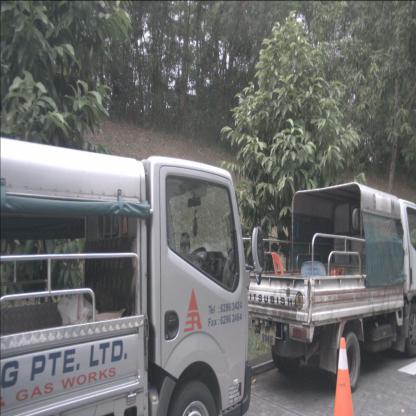movable_object-trafficcone: (333, 337, 354, 415)
vehicle-truck: (0, 136, 252, 416), (242, 181, 416, 394)
